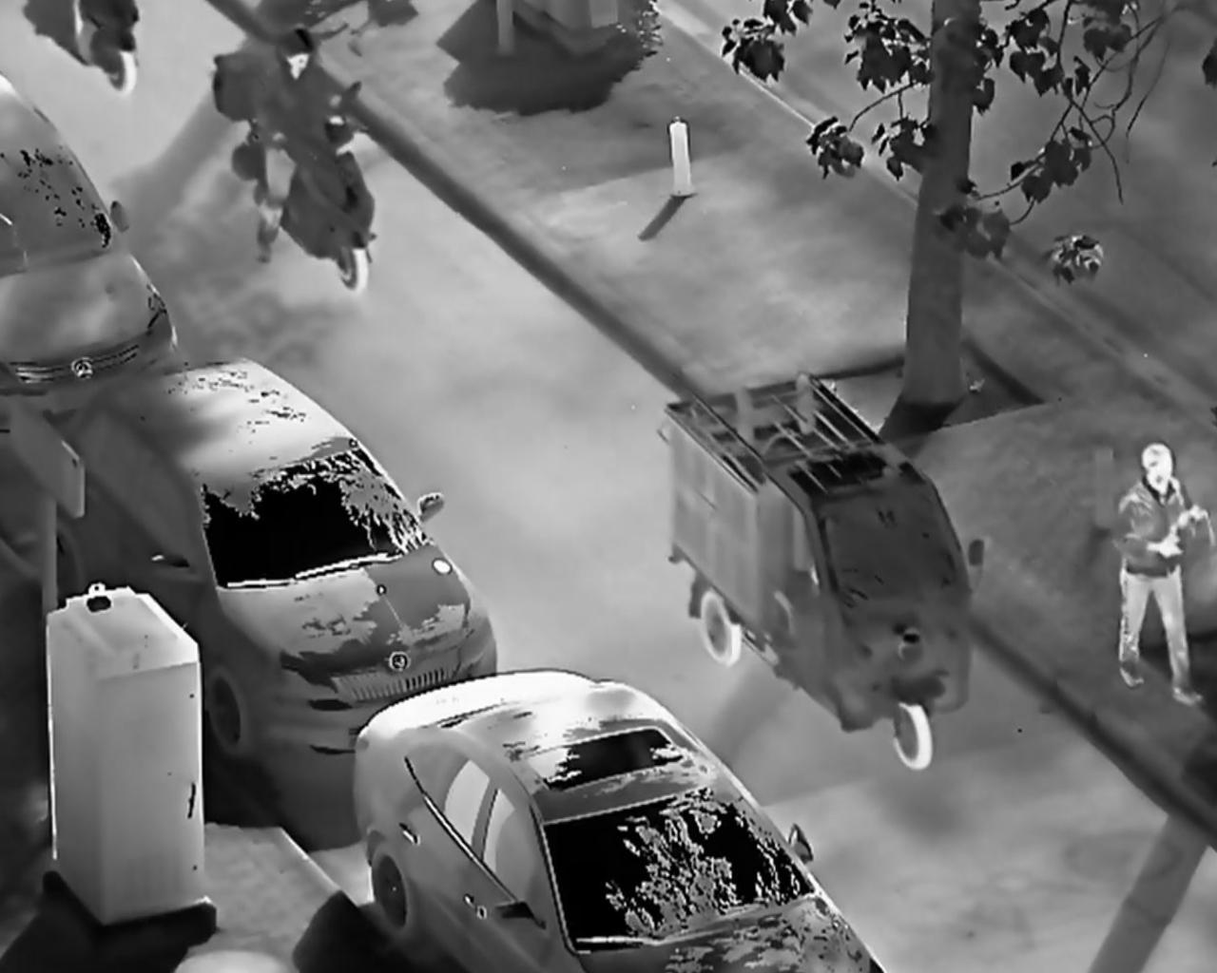person: (246, 23, 379, 267), (1110, 443, 1217, 715)
